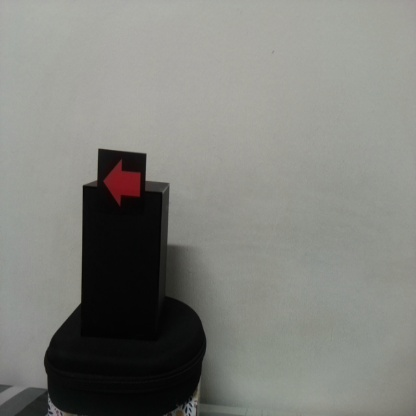id_4: (98, 149, 146, 216)
